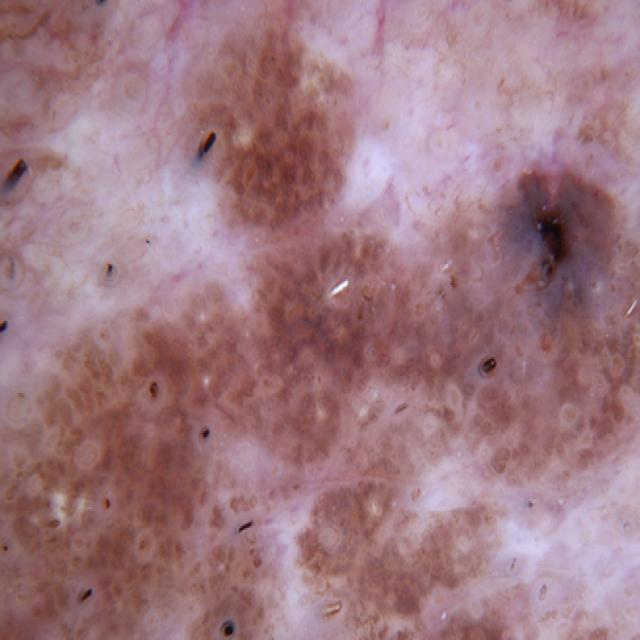Keratosis: (326, 133, 640, 547), (136, 189, 376, 597), (40, 362, 231, 640), (377, 454, 640, 640), (202, 15, 375, 234)
